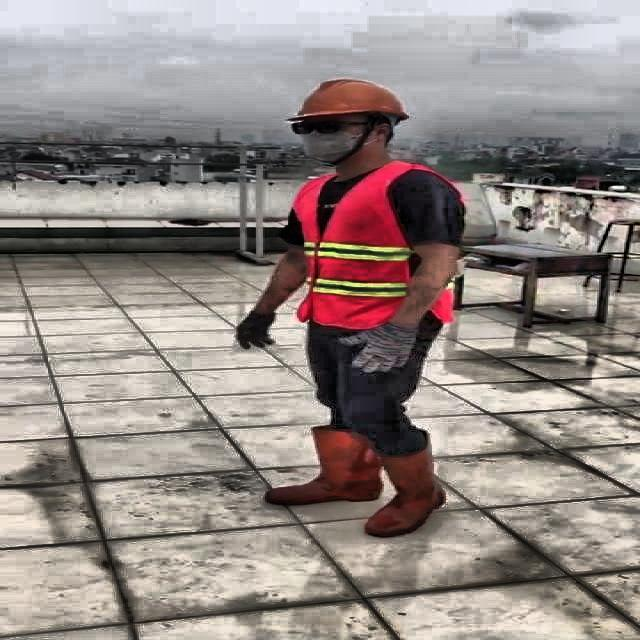safety_helmet: (286, 76, 408, 124)
safety_jacket: (292, 166, 458, 329)
